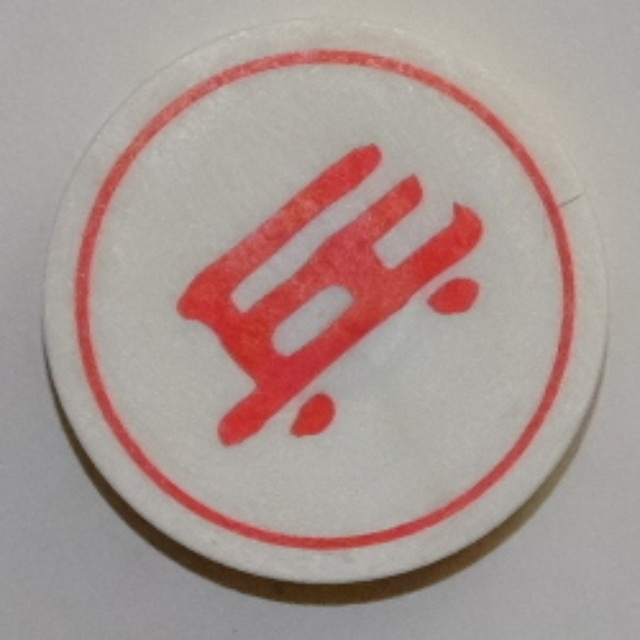red_chot: (24, 14, 619, 597)
